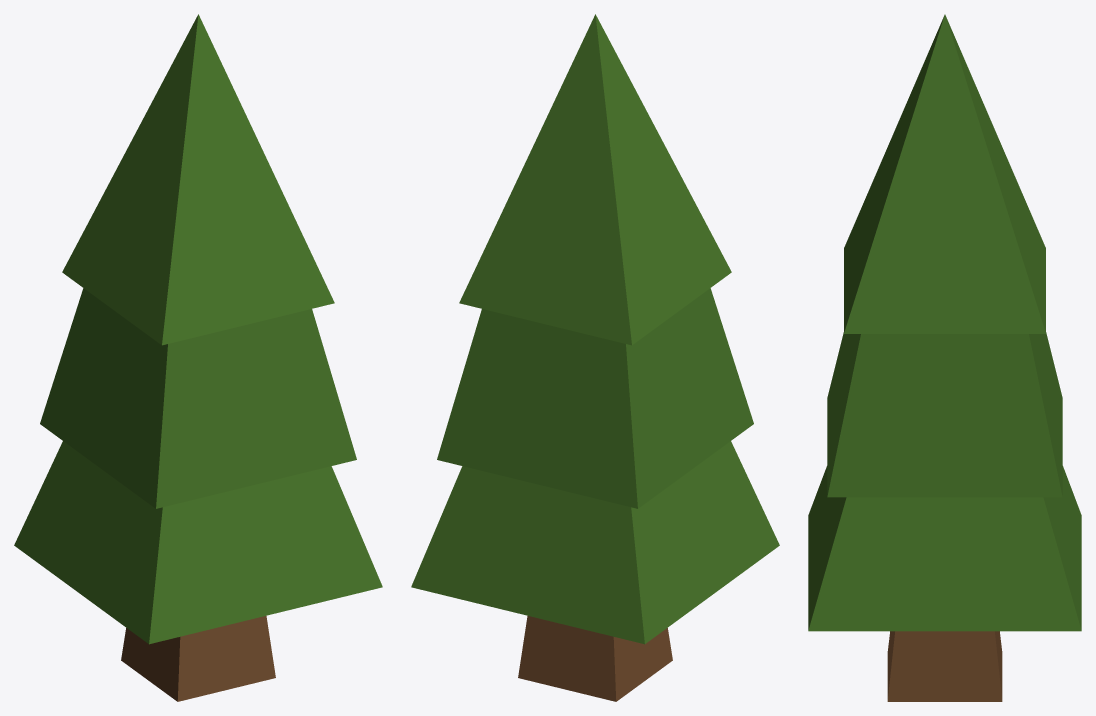
Rendered from tree_pineSmallD.glb.
3 views of the same model, side by side, from view 1: azimuth 30°, elevation 25°; view 2: azimuth 150°, elevation 25°; view 3: azimuth 270°, elevation 25° (orthographic).
Visible parts, largest first — view 1: tree_pineSmallD; view 2: tree_pineSmallD; view 3: tree_pineSmallD.
Boxes of the visible parts, x1,y1,x2,y2 form: tree_pineSmallD: (14, 14, 382, 701); tree_pineSmallD: (411, 14, 779, 701); tree_pineSmallD: (808, 14, 1081, 701).
Bounding box in the file's own units: 0.357 × 0.9556 × 0.357.
